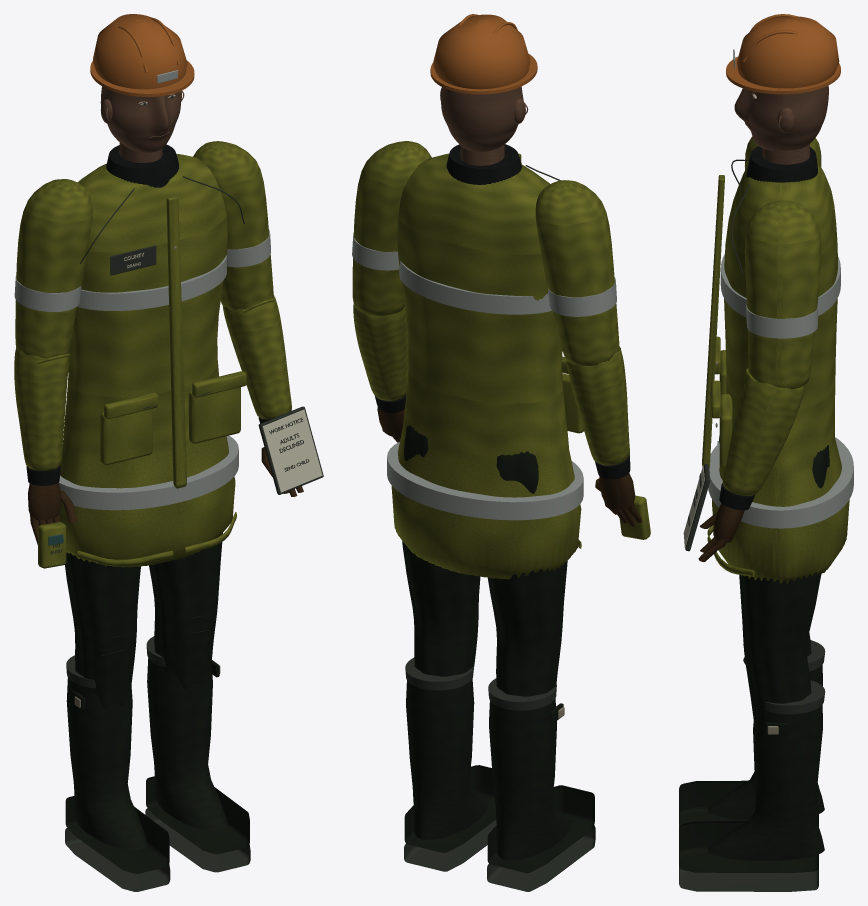
The model's file is sanitation-officer.glb.
3 views of the same model, side by side, from view 1: azimuth 30°, elevation 25°; view 2: azimuth 150°, elevation 25°; view 3: azimuth 270°, elevation 25° (orthographic). The views are drawn at different scales.
Visible parts, largest first — view 1: Idle breathing chest / Dirty yellow safety fabric, sanitation-officer / Deep green rubber waders, Left shoulder idle / Dirty yellow safety fabric, Idle breathing chest / Reflective gray tape, Right shoulder idle / Dirty yellow safety fabric, Head watchful idle / Orange hardhat polymer, Left forearm idle / Dirty yellow safety fabric, Right forearm idle / Dirty yellow safety fabric, sanitation-officer / Dark seams, Head watchful idle / Weathered skin, Right forearm idle / Inspection label paper, Idle breathing chest / Charcoal ribbed wool (+6 smaller); view 2: Idle breathing chest / Dirty yellow safety fabric, sanitation-officer / Deep green rubber waders, Left shoulder idle / Dirty yellow safety fabric, Idle breathing chest / Reflective gray tape, Right shoulder idle / Dirty yellow safety fabric, Head watchful idle / Orange hardhat polymer, sanitation-officer / Dark seams, Left forearm idle / Dirty yellow safety fabric, Head watchful idle / Weathered skin, Right forearm idle / Dirty yellow safety fabric, Idle breathing chest / Charcoal ribbed wool, Left forearm idle / Work glove leather (+5 smaller); view 3: sanitation-officer / Deep green rubber waders, Idle breathing chest / Dirty yellow safety fabric, Right shoulder idle / Dirty yellow safety fabric, Head watchful idle / Orange hardhat polymer, Right forearm idle / Dirty yellow safety fabric, Idle breathing chest / Reflective gray tape, Head watchful idle / Weathered skin, sanitation-officer / Dark seams, Idle breathing chest / Charcoal ribbed wool, Right shoulder idle / Reflective gray tape, Right forearm idle / Work glove leather, Idle breathing chest / Weathered skin (+3 smaller).
Boxes of the visible parts, left/top/right/bottom form: Idle breathing chest / Dirty yellow safety fabric: left=59, top=153, right=246, bottom=567; sanitation-officer / Deep green rubber waders: left=65, top=533, right=249, bottom=873; Left shoulder idle / Dirty yellow safety fabric: left=15, top=179, right=92, bottom=358; Idle breathing chest / Reflective gray tape: left=58, top=255, right=238, bottom=510; Right shoulder idle / Dirty yellow safety fabric: left=193, top=141, right=273, bottom=309; Head watchful idle / Orange hardhat polymer: left=90, top=14, right=194, bottom=96; Left forearm idle / Dirty yellow safety fabric: left=14, top=348, right=69, bottom=470; Right forearm idle / Dirty yellow safety fabric: left=222, top=295, right=291, bottom=419; sanitation-officer / Dark seams: left=65, top=636, right=250, bottom=891; Head watchful idle / Weathered skin: left=100, top=86, right=181, bottom=152; Right forearm idle / Inspection label paper: left=262, top=409, right=322, bottom=492; Idle breathing chest / Charcoal ribbed wool: left=106, top=144, right=178, bottom=187; Idle breathing chest / Dirty yellow safety fabric: left=391, top=153, right=583, bottom=579; sanitation-officer / Deep green rubber waders: left=402, top=425, right=594, bottom=873; Left shoulder idle / Dirty yellow safety fabric: left=535, top=180, right=619, bottom=365; Idle breathing chest / Reflective gray tape: left=387, top=261, right=583, bottom=520; Right shoulder idle / Dirty yellow safety fabric: left=352, top=141, right=431, bottom=316; Head watchful idle / Orange hardhat polymer: left=430, top=14, right=537, bottom=94; sanitation-officer / Dark seams: left=404, top=657, right=595, bottom=891; Left forearm idle / Dirty yellow safety fabric: left=566, top=346, right=629, bottom=465; Head watchful idle / Weathered skin: left=440, top=86, right=525, bottom=151; Right forearm idle / Dirty yellow safety fabric: left=353, top=304, right=408, bottom=400; Idle breathing chest / Charcoal ribbed wool: left=446, top=144, right=521, bottom=184; Left forearm idle / Work glove leather: left=595, top=473, right=642, bottom=526; sanitation-officer / Deep green rubber waders: left=679, top=445, right=829, bottom=872; Idle breathing chest / Dirty yellow safety fabric: left=702, top=161, right=849, bottom=583; Right shoulder idle / Dirty yellow safety fabric: left=744, top=200, right=821, bottom=389; Head watchful idle / Orange hardhat polymer: left=726, top=14, right=840, bottom=94; Right forearm idle / Dirty yellow safety fabric: left=722, top=368, right=805, bottom=495; Idle breathing chest / Reflective gray tape: left=708, top=254, right=853, bottom=528; Head watchful idle / Weathered skin: left=734, top=85, right=828, bottom=150; sanitation-officer / Dark seams: left=679, top=640, right=825, bottom=891; Idle breathing chest / Charcoal ribbed wool: left=746, top=146, right=817, bottom=182; Right shoulder idle / Reflective gray tape: left=746, top=305, right=818, bottom=338; Right forearm idle / Work glove leather: left=698, top=503, right=744, bottom=561; Idle breathing chest / Weathered skin: left=762, top=144, right=810, bottom=164.
Size of the model in its own units: 0.6101 by 1.8 by 0.34.
Materials: 17 (5 with a texture image).
